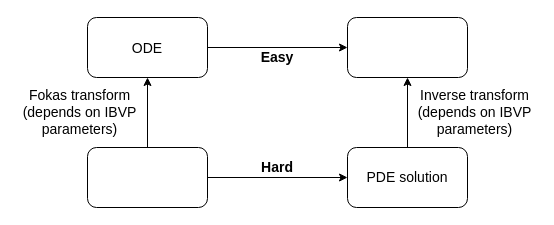
Image size: 554x225. Some labels were removed from this diagram. Here are the shapes that lost their labels. From the top down, the centre of each, then its label:
At point (407, 47): "ODE solution".
At point (147, 177): "PDE".
